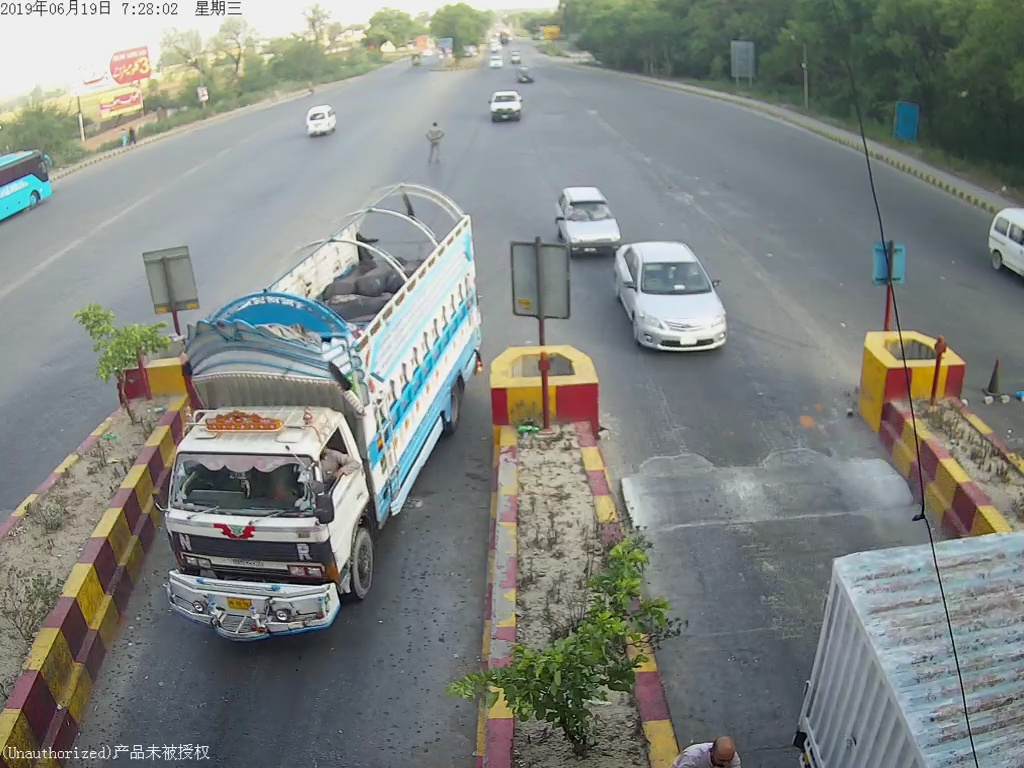Cat-1: (615, 245, 733, 353), (555, 186, 617, 248)
Cat-4: (153, 178, 496, 640)
